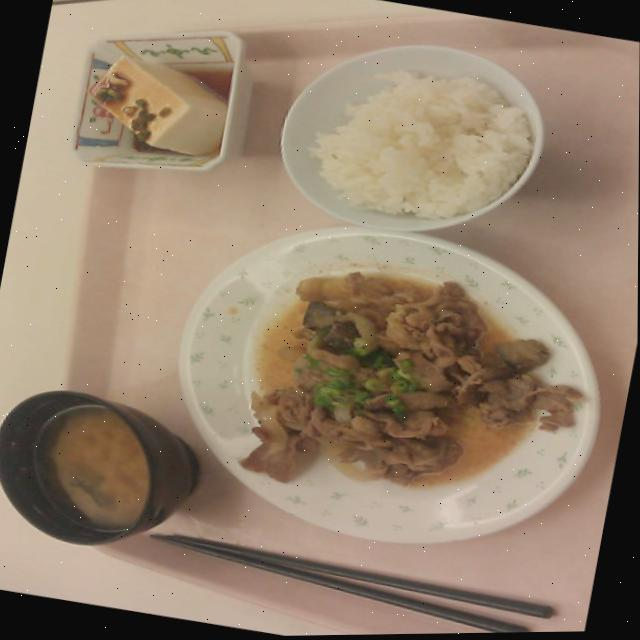汤锅炖物: (0, 345, 224, 572)
米饭主食: (238, 0, 567, 274)
豆腐料理: (30, 0, 278, 202)
